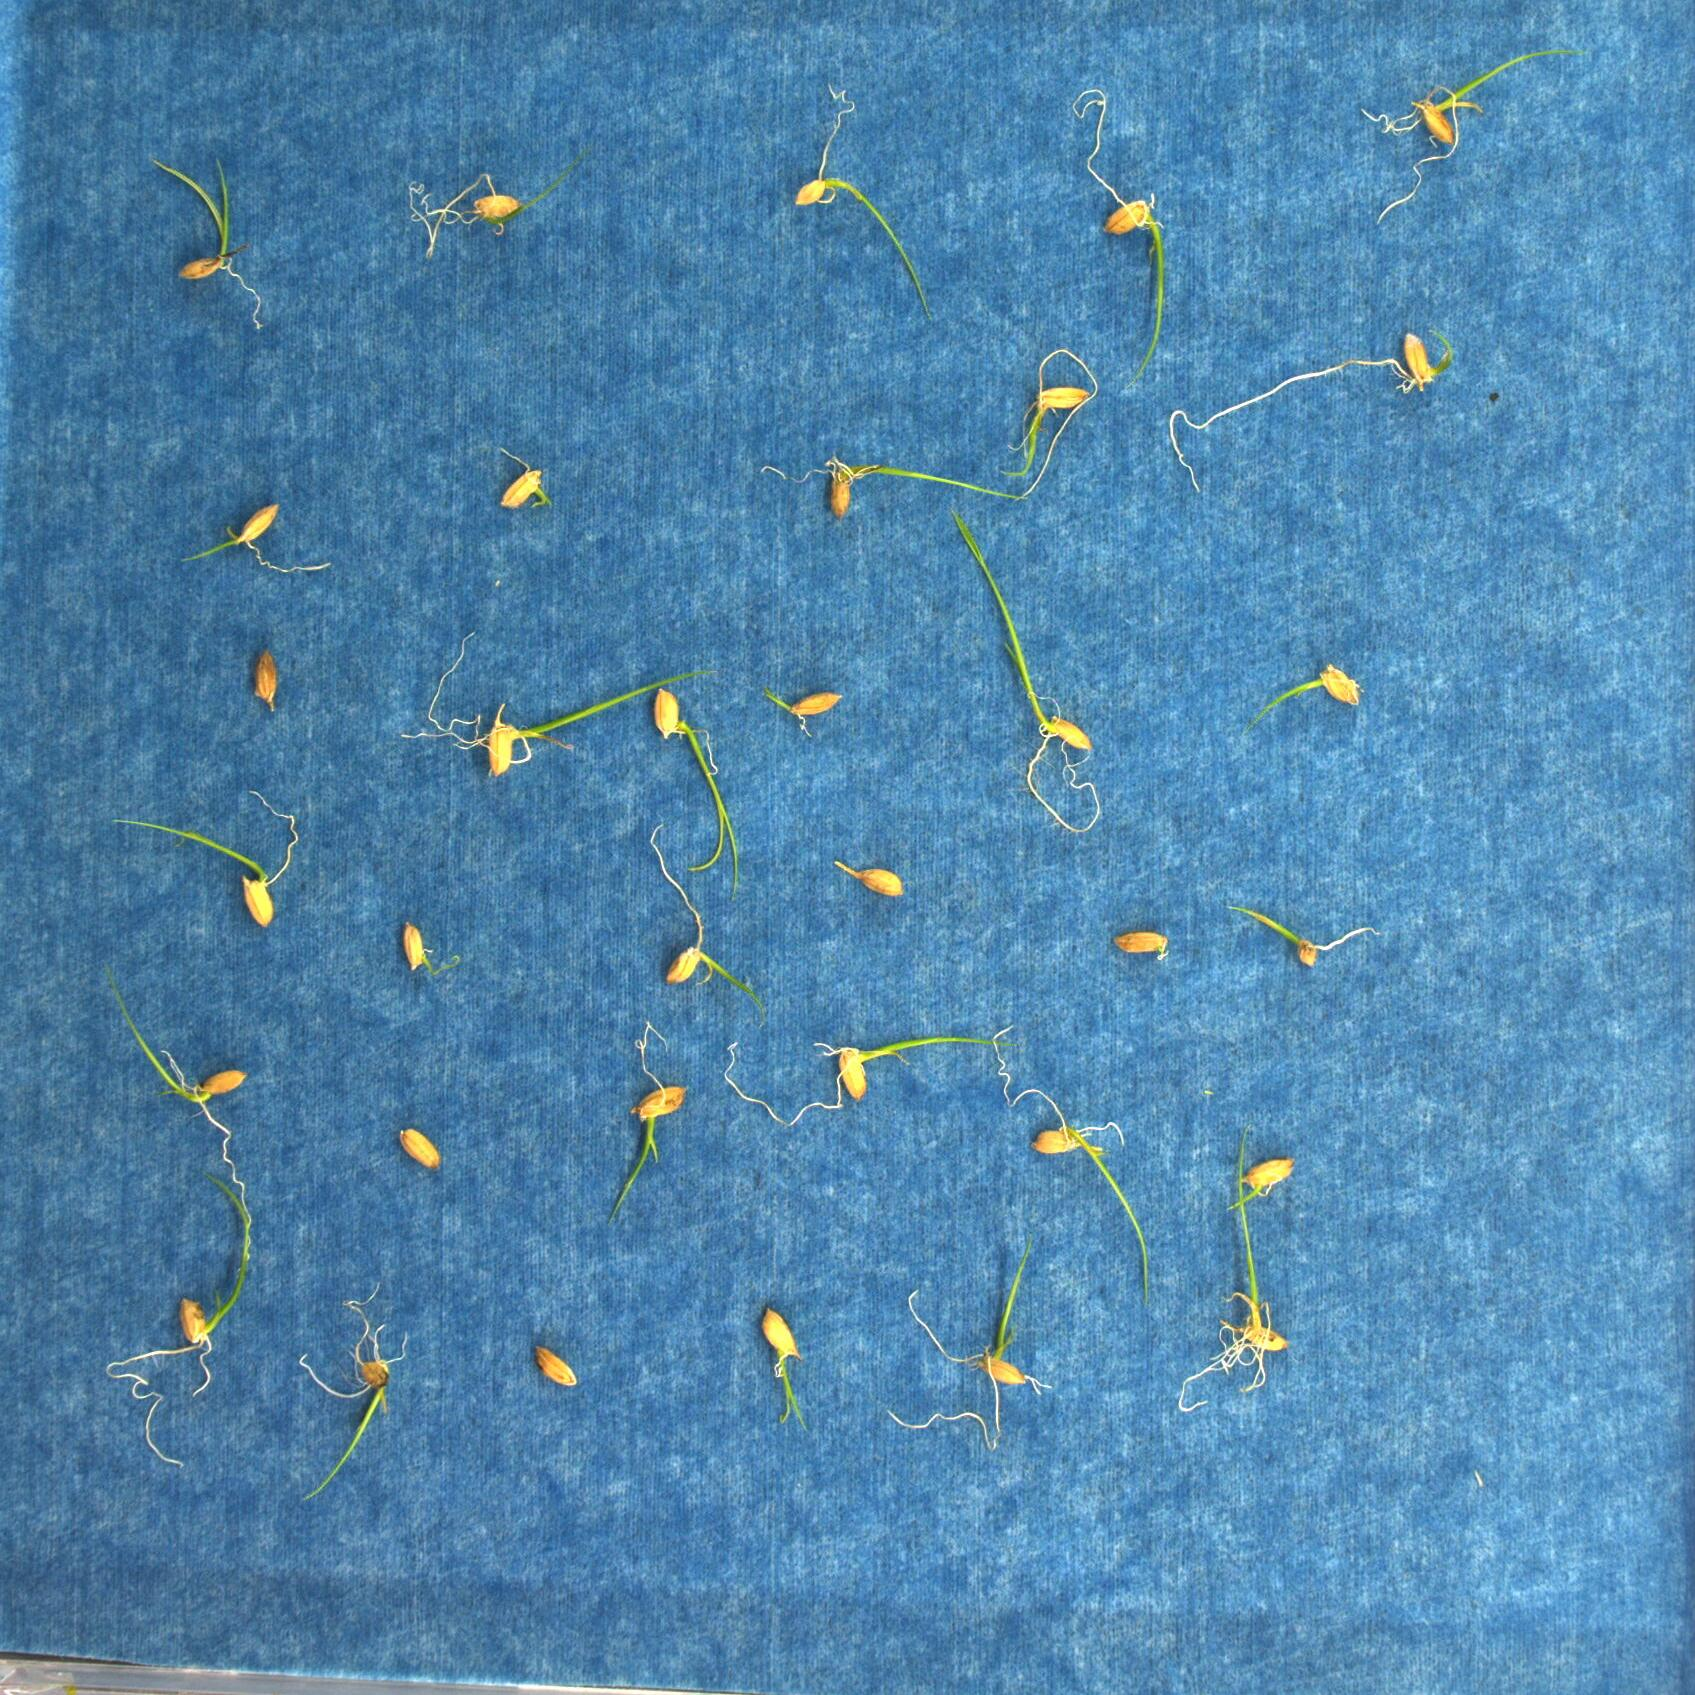not sprout: (241, 653, 282, 717), (396, 924, 439, 979), (1107, 925, 1170, 962), (532, 1343, 581, 1388), (397, 1128, 442, 1169)
sprout: (1167, 335, 1453, 497), (992, 1020, 1155, 1301), (955, 518, 1101, 832), (393, 629, 695, 773), (109, 1172, 251, 1473), (101, 981, 253, 1253), (1361, 48, 1586, 220), (796, 82, 934, 328), (886, 1246, 1052, 1440), (1180, 1132, 1295, 1405), (112, 785, 300, 930), (1071, 85, 1164, 376), (723, 1034, 1003, 1127), (295, 1276, 408, 1504), (647, 827, 767, 1015), (147, 152, 262, 329), (650, 692, 739, 900), (408, 160, 593, 256), (607, 1015, 683, 1228), (757, 461, 1024, 520), (1012, 348, 1097, 500), (177, 494, 332, 574), (1232, 903, 1381, 969), (1245, 661, 1361, 719), (761, 1307, 810, 1430), (1222, 1156, 1298, 1211), (489, 449, 549, 511), (764, 691, 844, 736), (830, 858, 905, 896)
